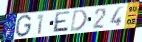1: (36, 13, 45, 35)
2: (91, 8, 107, 30)
4: (109, 6, 123, 28)
D: (69, 8, 88, 33)
E: (52, 11, 72, 34)
G: (15, 14, 33, 38)
